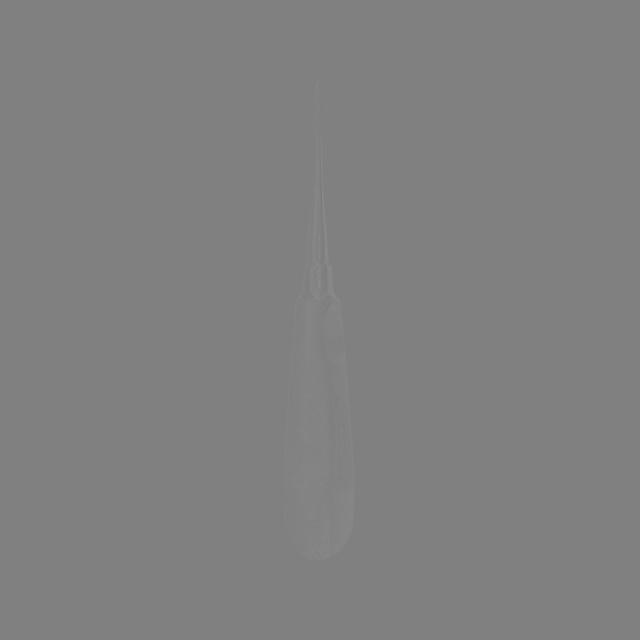botador: (285, 87, 356, 570)
